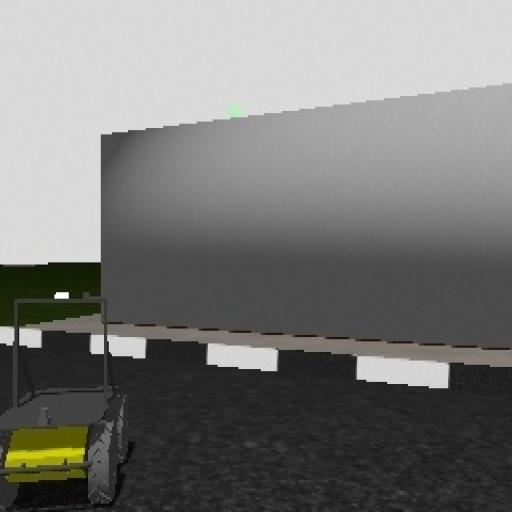huskya200: (0, 284, 130, 510)
